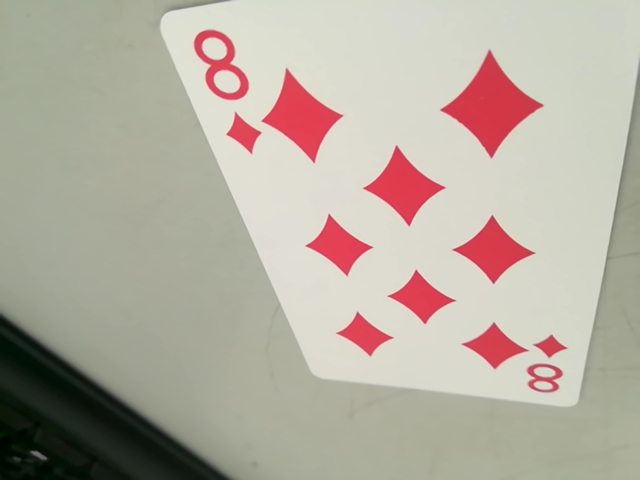fk 8: (182, 19, 262, 139), (519, 341, 575, 402)
